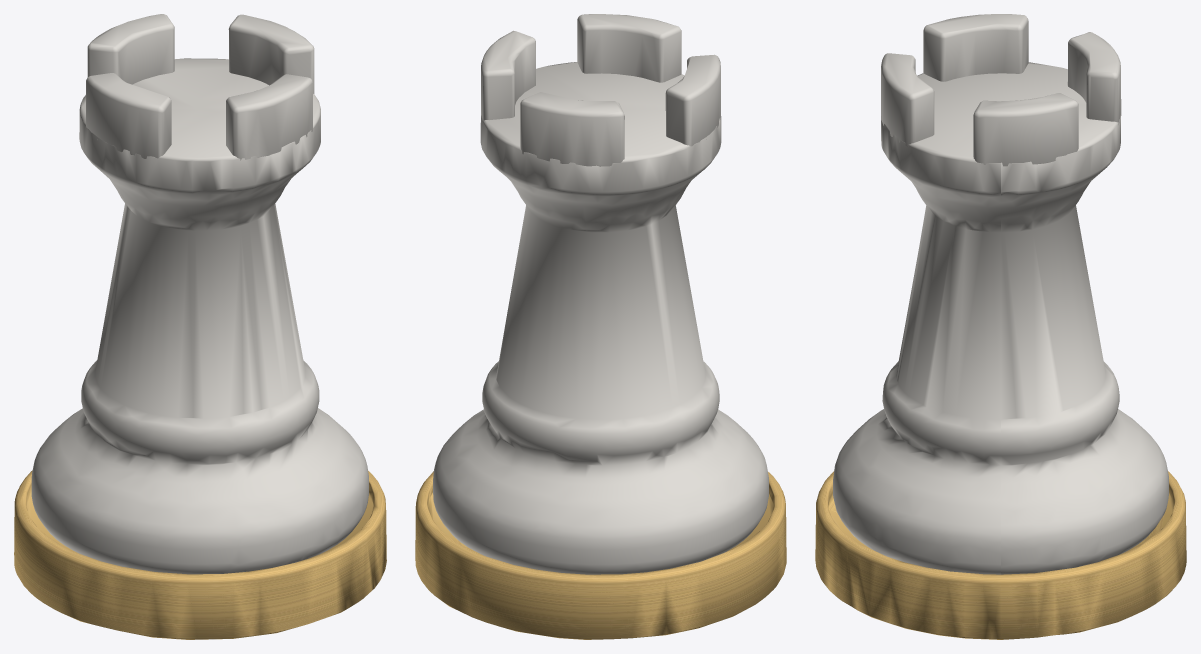
The model's file is rook-white.glb.
The picture shows the model from 3 angles, left to right: view 1: azimuth 30°, elevation 25°; view 2: azimuth 150°, elevation 25°; view 3: azimuth 270°, elevation 25°; orthographic projection.
Parts seen in each view (by area): view 1: Aurum Ivoire – Rook; view 2: Aurum Ivoire – Rook; view 3: Aurum Ivoire – Rook.
Boxes of the visible parts, x1=… form: Aurum Ivoire – Rook: x1=14, y1=14, x2=386, y2=639; Aurum Ivoire – Rook: x1=415, y1=14, x2=786, y2=639; Aurum Ivoire – Rook: x1=815, y1=14, x2=1186, y2=639.
Bounding box in the file's own units: 0.7136 × 1.06 × 0.714.
Materials: 2 (1 with a texture image).
